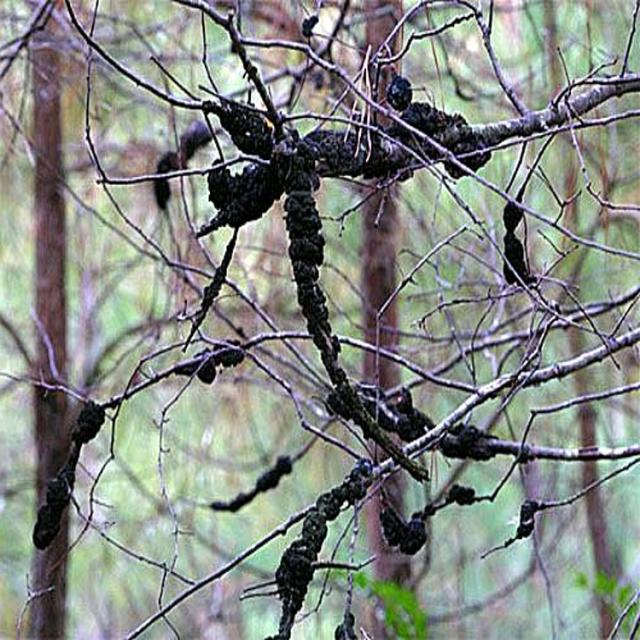Black_knot: (385, 74, 413, 112)
